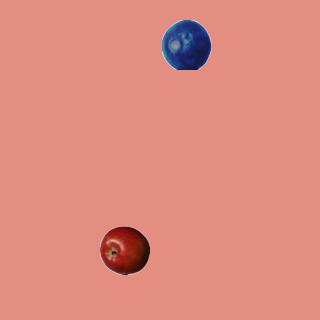Apple Braeburn: (99, 225, 149, 275)
Huckleberry: (161, 19, 211, 69)
